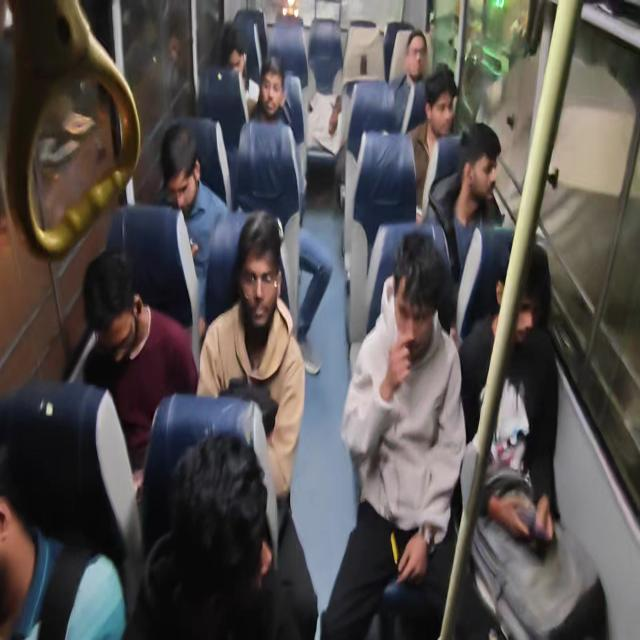person: (2, 2, 605, 637), (320, 230, 466, 638), (458, 242, 607, 638), (122, 429, 318, 639), (0, 379, 136, 638), (196, 209, 306, 511), (458, 242, 560, 525), (81, 248, 198, 480), (153, 122, 229, 326), (432, 121, 504, 278), (405, 64, 458, 224), (249, 55, 306, 201), (389, 29, 428, 134), (219, 22, 260, 117), (306, 64, 344, 154), (249, 55, 292, 125)
